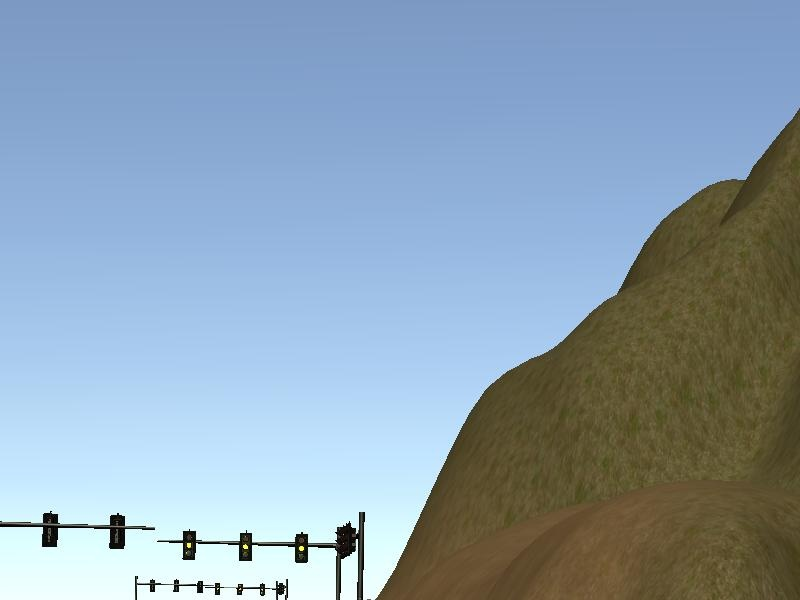yellow: (180, 528, 200, 564), (236, 531, 257, 565), (290, 531, 310, 565)
